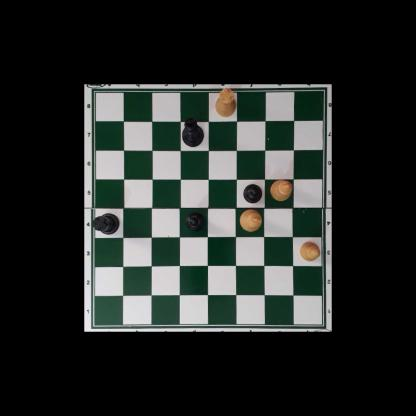black-king: (182, 118, 204, 148)
black-pawn: (243, 182, 262, 203), (185, 211, 204, 231)
black-rook: (93, 213, 120, 235)
white-bishop: (270, 179, 293, 201)
white-king: (240, 208, 263, 232)
white-pawn: (298, 241, 320, 262)
white-rook: (215, 87, 237, 118)
